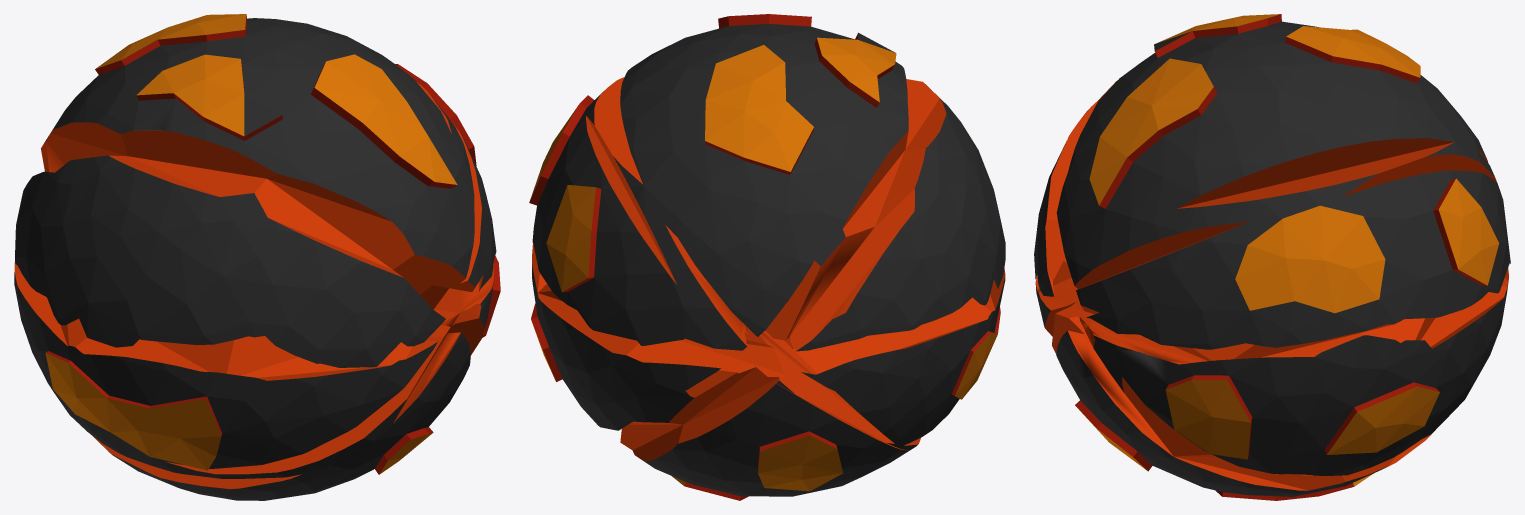
Rendered from Planet11.glb.
3 renders of one model, left to right at view 1: azimuth 30°, elevation 25°; view 2: azimuth 150°, elevation 25°; view 3: azimuth 270°, elevation 25°, orthographic.
Visible parts, largest first — view 1: Planet_11; view 2: Planet_11; view 3: Planet_11.
Part boxes in pixels (x1=…): Planet_11: x1=14, y1=14, x2=500, y2=500; Planet_11: x1=529, y1=14, x2=1005, y2=500; Planet_11: x1=1034, y1=14, x2=1510, y2=500.
Size of the model in its own units: 2.58 by 2.62 by 2.57.
